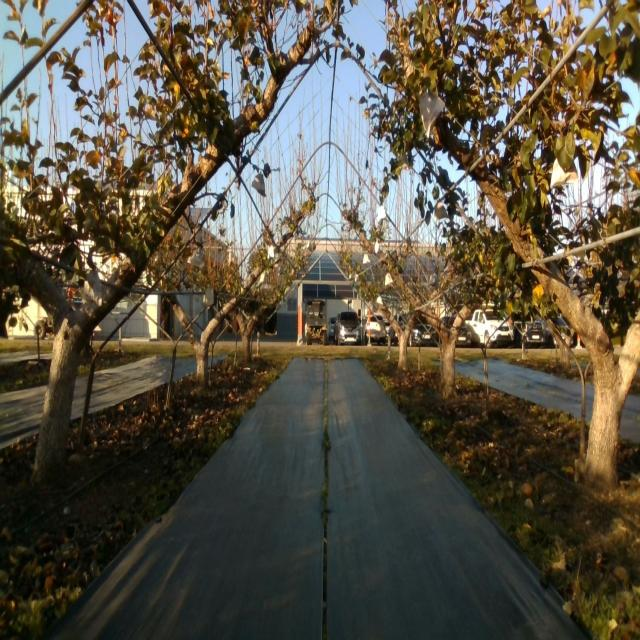pearbags: (418, 90, 446, 136), (549, 156, 579, 188), (80, 268, 102, 307), (251, 172, 266, 198), (187, 246, 204, 267), (434, 201, 448, 222)
